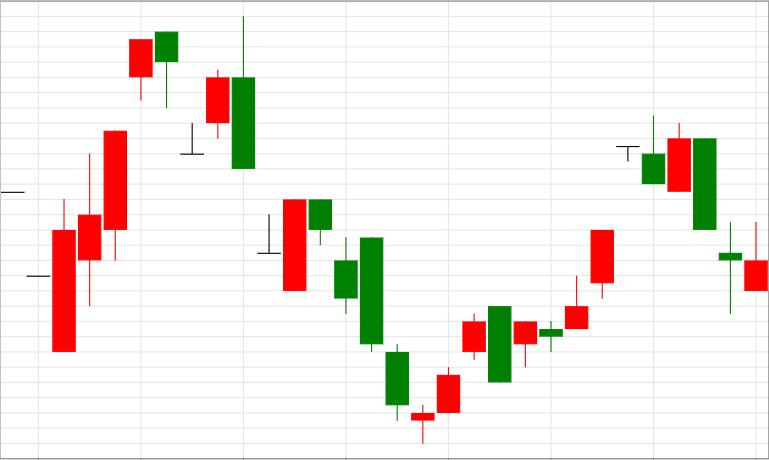bearish_engulfing_fall: (411, 306, 511, 444)
hanging_man_fall: (53, 31, 179, 352)
morning_star_rise: (309, 200, 459, 444)
